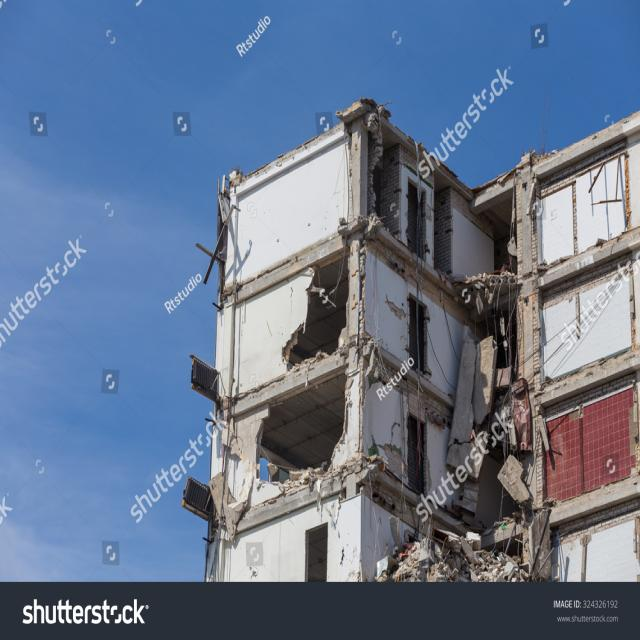Destroyed_building: (1, 2, 640, 581)
